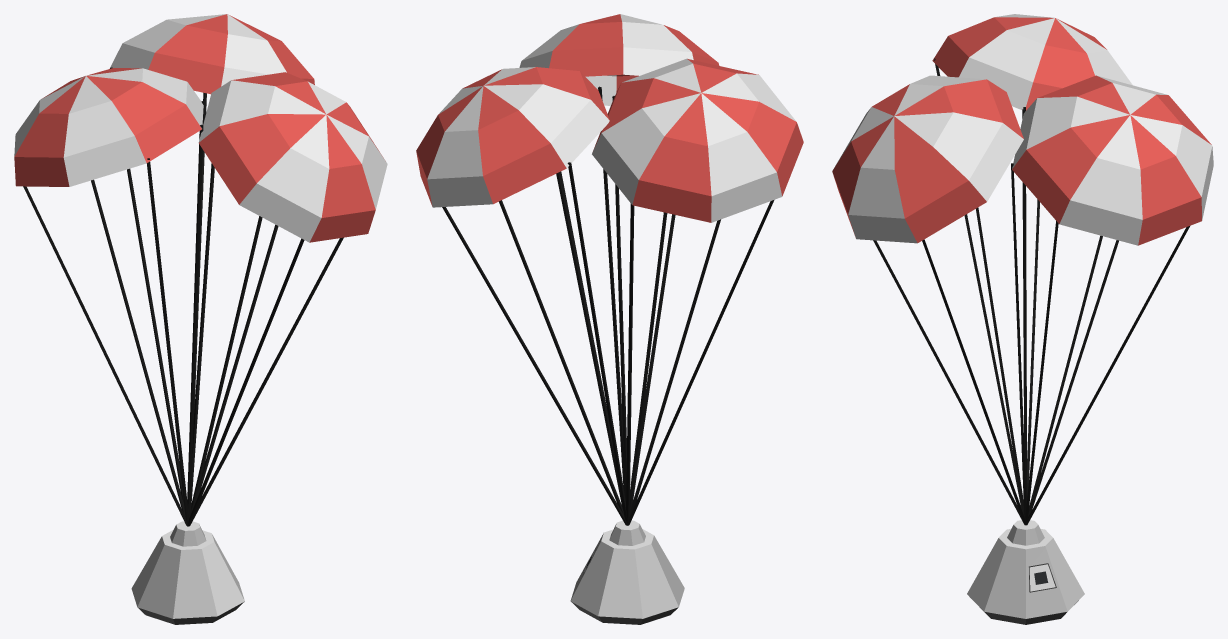
File: SM_Veh_LandingPod_Parachute_01.fbx
The picture shows the model from 3 angles, left to right: view 1: azimuth 30°, elevation 25°; view 2: azimuth 150°, elevation 25°; view 3: azimuth 270°, elevation 25°; orthographic projection.
Visible parts, largest first — view 1: SM_Veh_LandingPod_Parachute_01; view 2: SM_Veh_LandingPod_Parachute_01; view 3: SM_Veh_LandingPod_Parachute_01.
Boxes of the visible parts, <box> form: SM_Veh_LandingPod_Parachute_01: <box>14,14,387,624</box>; SM_Veh_LandingPod_Parachute_01: <box>416,14,803,624</box>; SM_Veh_LandingPod_Parachute_01: <box>832,14,1213,624</box>.
Bounding box in the file's own units: 15.67 × 25.86 × 16.36.
